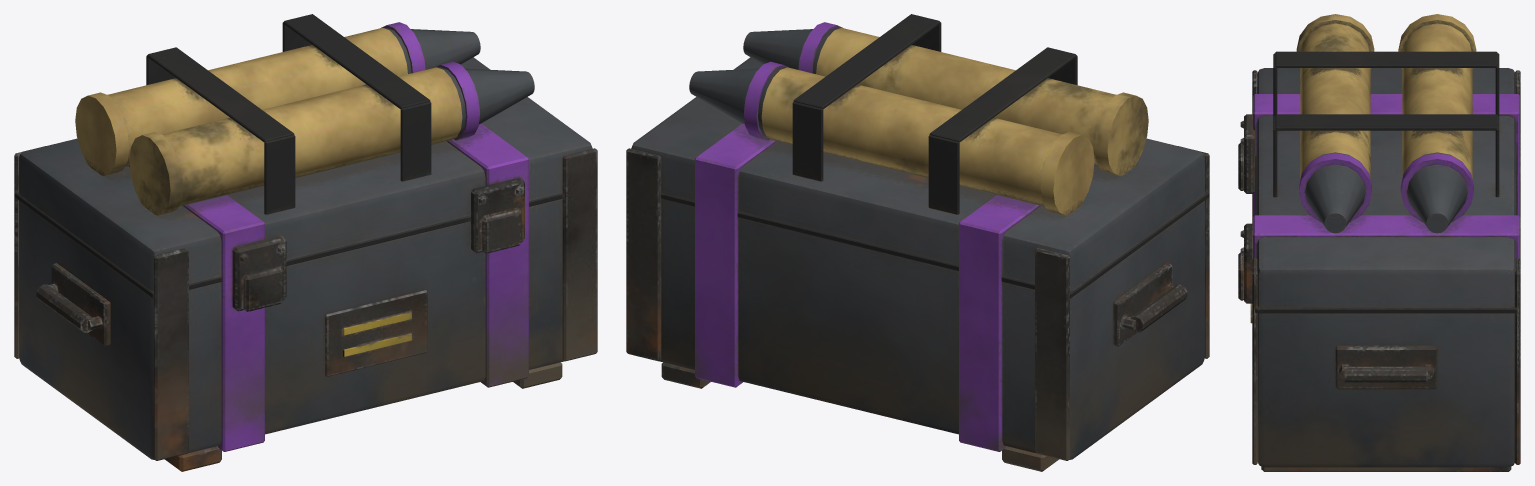
File: heavy_ammo.glb
3 views of the same model, side by side, from view 1: azimuth 30°, elevation 25°; view 2: azimuth 150°, elevation 25°; view 3: azimuth 270°, elevation 25° (orthographic). The views are drawn at different scales.
Visible parts, largest first — view 1: Model, TintBand; view 2: Model, TintBand; view 3: Model, TintBand.
Part boxes in pixels (<box>): Model: <box>14,14,597,471</box>; TintBand: <box>128,123,528,451</box>; Model: <box>626,14,1209,471</box>; TintBand: <box>695,123,1095,451</box>; Model: <box>1238,14,1520,471</box>; TintBand: <box>1253,94,1519,258</box>.
Bounding box in the file's own units: 0.5811 × 0.343 × 0.305.
1 material, 1 textured.
